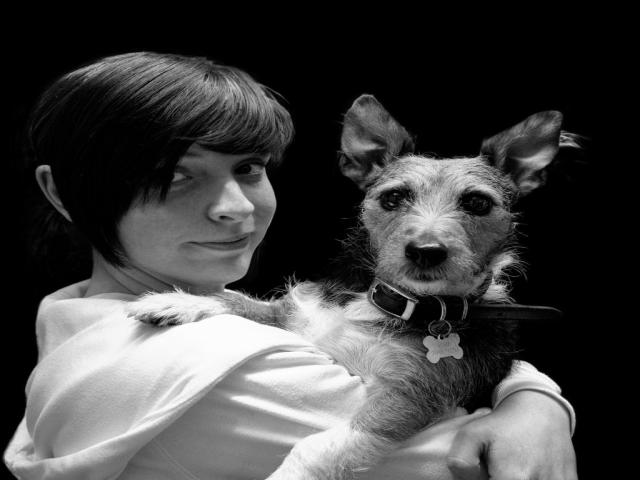Dog: (121, 94, 578, 480)
